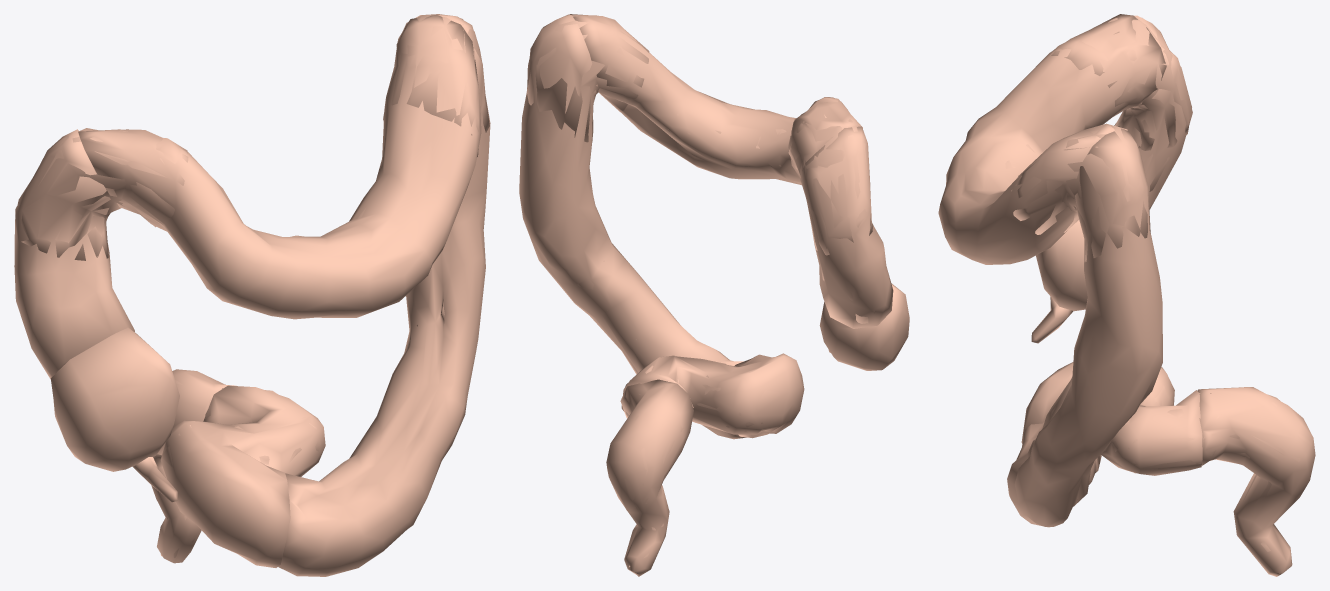
File: sbu_f_intestine_large-20.glb
3 views of the same model, side by side, from view 1: azimuth 30°, elevation 25°; view 2: azimuth 150°, elevation 25°; view 3: azimuth 270°, elevation 25° (orthographic). The views are drawn at different scales.
Parts seen in each view (by area): view 1: VH_F_transverse_colon, VH_F_descending_colon, VH_F_sigmoid_colon, VH_F_ascending_colon, VH_F_caecum, VH_F_hepatic_flexure_of_colon, VH_F_rectum, VH_F_splenic_flexure_of_colon, VH_F_vermiform_appendix; view 2: VH_F_descending_colon, VH_F_transverse_colon, VH_F_rectum, VH_F_ascending_colon, VH_F_sigmoid_colon, VH_F_splenic_flexure_of_colon, VH_F_caecum, VH_F_hepatic_flexure_of_colon; view 3: VH_F_descending_colon, VH_F_transverse_colon, VH_F_rectum, VH_F_sigmoid_colon, VH_F_splenic_flexure_of_colon, VH_F_hepatic_flexure_of_colon, VH_F_ascending_colon, VH_F_caecum, VH_F_vermiform_appendix.
Part boxes in pixels (x1,y1,x2,y2): VH_F_transverse_colon: [78, 14, 481, 319]; VH_F_descending_colon: [278, 14, 490, 576]; VH_F_sigmoid_colon: [160, 385, 325, 567]; VH_F_ascending_colon: [14, 129, 134, 379]; VH_F_caecum: [50, 327, 179, 471]; VH_F_hepatic_flexure_of_colon: [15, 128, 188, 260]; VH_F_rectum: [151, 369, 236, 563]; VH_F_splenic_flexure_of_colon: [383, 14, 489, 156]; VH_F_vermiform_appendix: [132, 457, 178, 502]; VH_F_descending_colon: [519, 14, 746, 439]; VH_F_transverse_colon: [569, 14, 862, 185]; VH_F_rectum: [606, 379, 693, 576]; VH_F_ascending_colon: [800, 126, 893, 328]; VH_F_sigmoid_colon: [621, 353, 804, 438]; VH_F_splenic_flexure_of_colon: [526, 15, 649, 142]; VH_F_caecum: [819, 283, 909, 370]; VH_F_hepatic_flexure_of_colon: [788, 97, 873, 255]; VH_F_descending_colon: [1007, 128, 1162, 527]; VH_F_transverse_colon: [938, 14, 1166, 264]; VH_F_rectum: [1197, 387, 1315, 576]; VH_F_sigmoid_colon: [1021, 362, 1202, 475]; VH_F_splenic_flexure_of_colon: [1011, 125, 1150, 261]; VH_F_hepatic_flexure_of_colon: [1051, 18, 1191, 150]; VH_F_ascending_colon: [1114, 15, 1192, 209]; VH_F_caecum: [1036, 220, 1087, 311]; VH_F_vermiform_appendix: [1031, 296, 1073, 343].
Size of the model in its own units: 0.2427 by 0.2954 by 0.1941.
